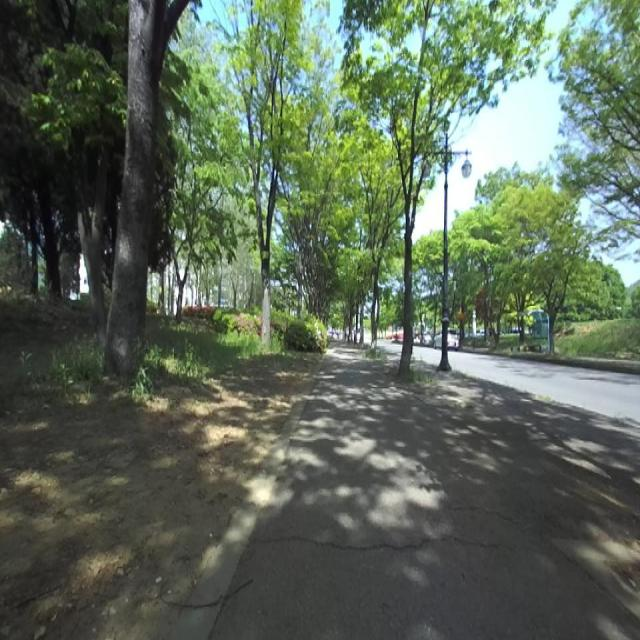sidewalk: (212, 342, 640, 639), (170, 365, 320, 640)
